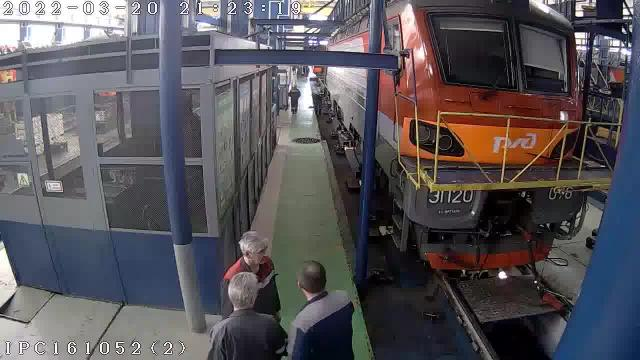person: (207, 272, 286, 359), (288, 261, 354, 359), (222, 231, 280, 319), (289, 84, 300, 113)
train: (376, 0, 585, 273)
